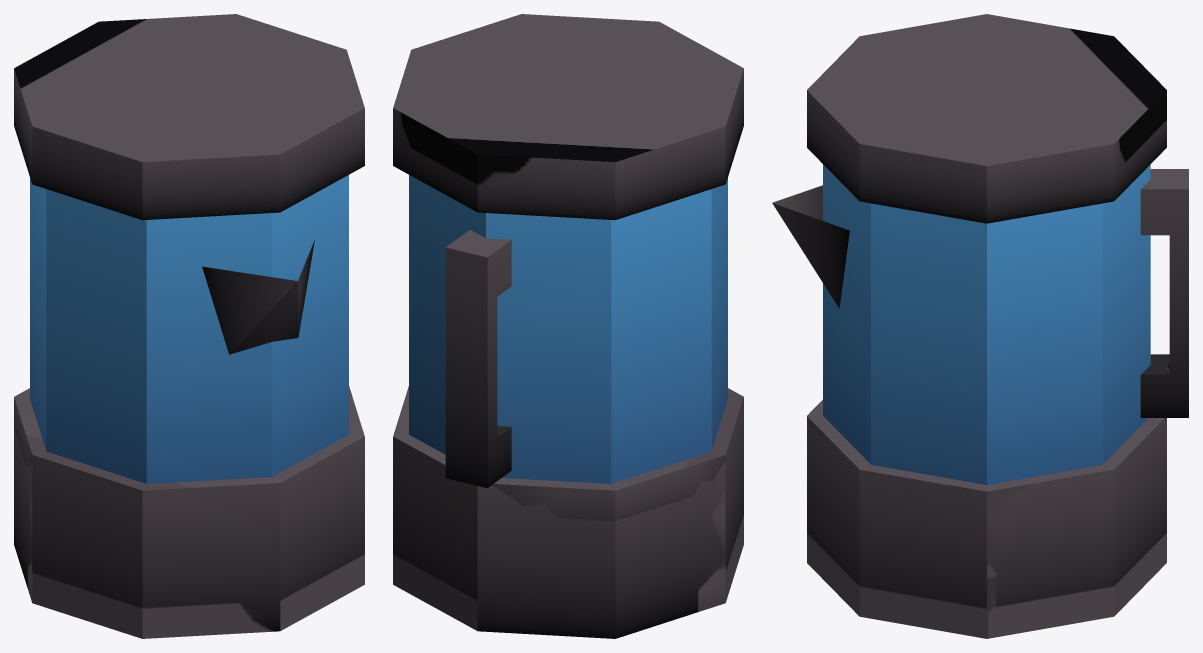
The model's file is Electric Kettle.glb.
3 views of the same model, side by side, from view 1: azimuth 30°, elevation 25°; view 2: azimuth 150°, elevation 25°; view 3: azimuth 270°, elevation 25° (orthographic).
Parts seen in each view (by area): view 1: Cylinder, Cylinder.002, Cylinder.001, Cone; view 2: Cylinder, Cylinder.002, Cylinder.001, Cube; view 3: Cylinder, Cylinder.002, Cylinder.001, Cube, Cone.
Boxes of the visible parts, box(x1,y1,x2,y2) form: Cylinder: box(30, 175, 348, 483); Cylinder.002: box(14, 14, 364, 220); Cylinder.001: box(14, 386, 364, 638); Cone: box(202, 240, 314, 354); Cylinder: box(409, 175, 727, 483); Cylinder.002: box(393, 14, 743, 220); Cylinder.001: box(393, 386, 743, 638); Cube: box(445, 230, 511, 488); Cylinder: box(823, 164, 1150, 484); Cylinder.002: box(807, 14, 1166, 223); Cylinder.001: box(807, 400, 1166, 638); Cube: box(1140, 169, 1188, 417); Cone: box(772, 185, 849, 308).
Size of the model in its own units: 2.2 by 3.18 by 2.55.
2 materials, 2 textured.
